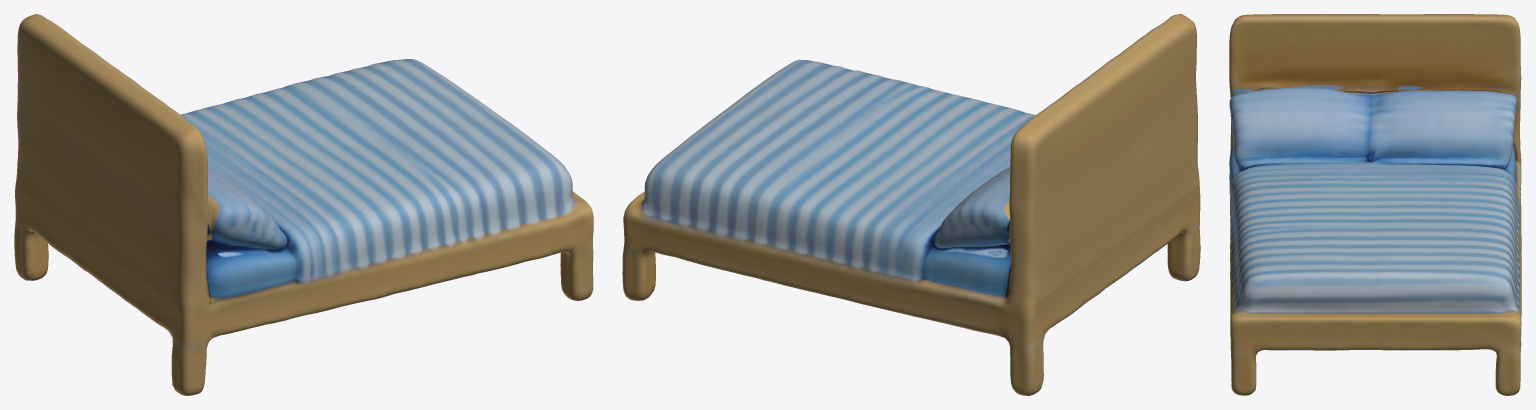
Rendered from bed.obj.
The picture shows the model from 3 angles, left to right: view 1: azimuth 30°, elevation 25°; view 2: azimuth 150°, elevation 25°; view 3: azimuth 270°, elevation 25°; orthographic projection. The views are drawn at different scales.
Visible parts, largest first — view 1: mesh; view 2: mesh; view 3: mesh.
Part boxes in pixels (<box>): mesh: <box>14,14,593,395</box>; mesh: <box>622,14,1200,395</box>; mesh: <box>1229,14,1521,395</box>.
Size of the model in its own units: 0.999 by 0.6095 by 0.7321.
Materials: 1 (1 with a texture image).
